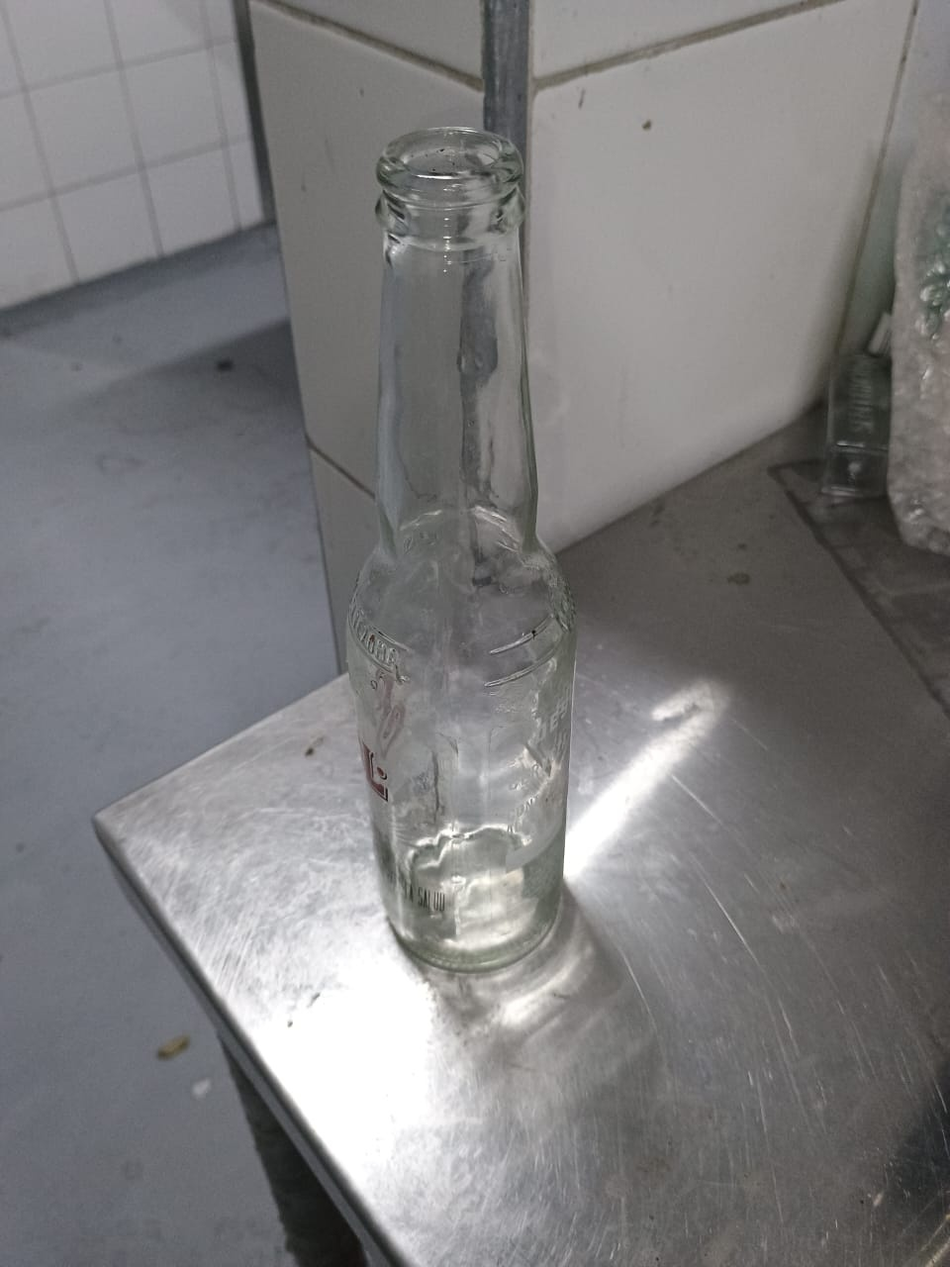Vidrio: (343, 125, 578, 977)
